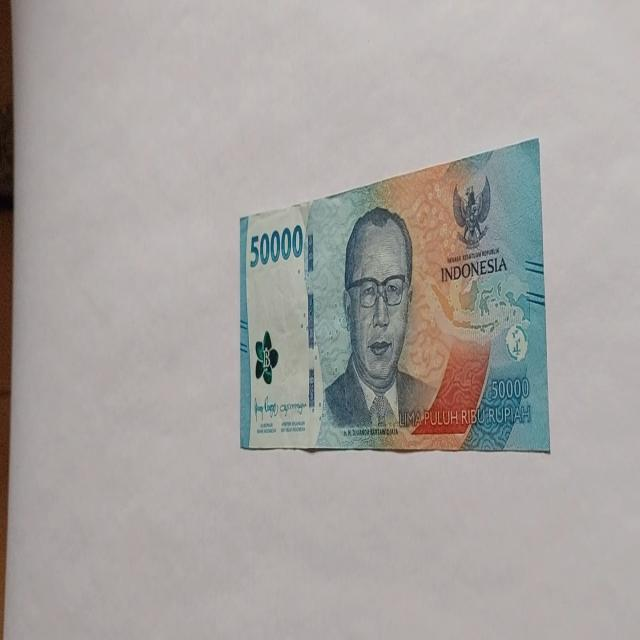lima puluh ribu rupiah: (238, 137, 550, 455), (319, 204, 431, 434)
